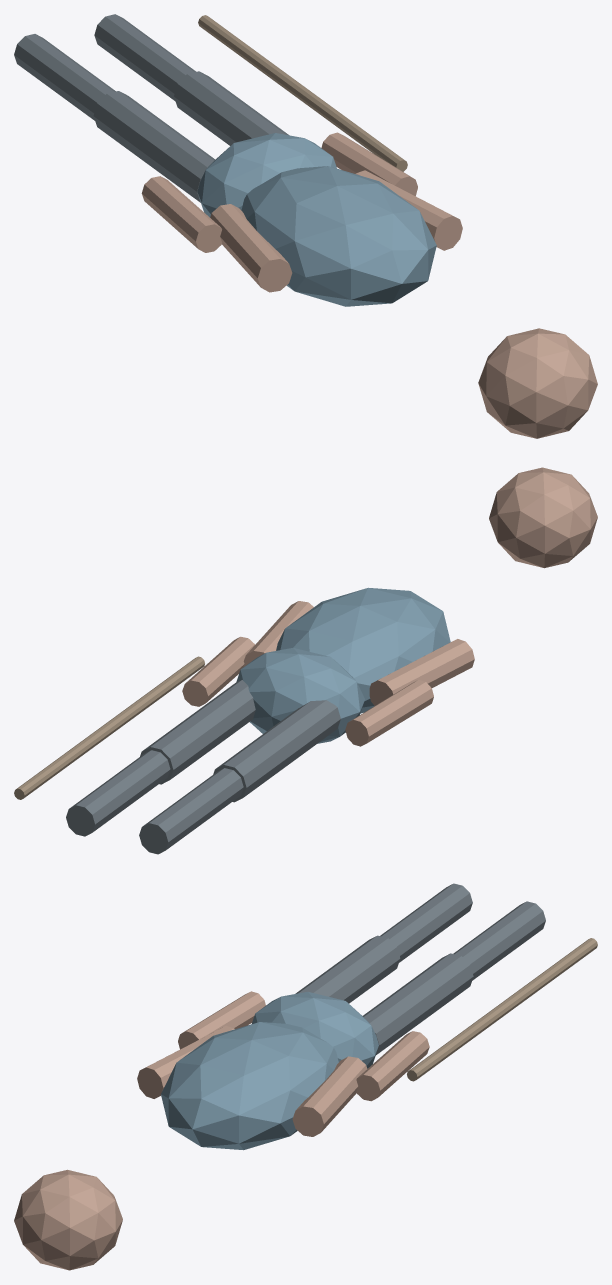
Rendered from older-low.glb.
3 renders of one model, top to bottom at view 1: azimuth 30°, elevation 25°; view 2: azimuth 150°, elevation 25°; view 3: azimuth 330°, elevation 25°, orthographic. The views are drawn at different scales.
Visible parts, largest first — view 1: torso, head, pelvis, left_thigh, right_thigh, right_lower_leg, left_lower_leg, cane, left_upper_arm, left_forearm, right_forearm, right_upper_arm; view 2: torso, head, pelvis, left_thigh, right_thigh, left_lower_leg, right_lower_leg, cane, left_upper_arm, left_forearm, right_forearm, right_upper_arm; view 3: torso, head, pelvis, right_thigh, left_thigh, left_lower_leg, right_lower_leg, cane, right_upper_arm, right_forearm, left_forearm, left_upper_arm.
Boxes of the visible parts, box(x1,y1,x2,y2) form: torso: box(241, 166, 436, 306); head: box(478, 328, 597, 438); pelvis: box(197, 133, 336, 217); left_thigh: box(93, 91, 215, 202); right_thigh: box(174, 71, 288, 145); right_lower_leg: box(94, 14, 196, 101); left_lower_leg: box(14, 34, 115, 120); cane: box(198, 15, 407, 171); left_upper_arm: box(210, 204, 292, 292); left_forearm: box(141, 176, 221, 252); right_forearm: box(321, 132, 417, 195); right_upper_arm: box(356, 170, 462, 250); torso: box(276, 587, 450, 713); head: box(489, 467, 597, 568); pelvis: box(236, 648, 364, 743); left_thigh: box(213, 700, 340, 802); right_thigh: box(140, 679, 255, 784); left_lower_leg: box(139, 768, 243, 854); right_lower_leg: box(66, 750, 170, 836); cane: box(14, 656, 204, 799); left_upper_arm: box(369, 639, 474, 705); left_forearm: box(345, 680, 433, 746); right_forearm: box(182, 636, 254, 706); right_upper_arm: box(243, 601, 313, 666); torso: box(161, 1022, 338, 1150); head: box(14, 1169, 122, 1270); pelvis: box(252, 991, 378, 1068); right_thigh: box(363, 953, 473, 1054); left_thigh: box(295, 935, 400, 1003); left_lower_leg: box(380, 883, 472, 962); right_lower_leg: box(453, 901, 545, 980); cane: box(407, 938, 597, 1081); right_upper_arm: box(292, 1056, 367, 1136); right_forearm: box(356, 1031, 429, 1101); left_forearm: box(178, 991, 265, 1049); left_upper_arm: box(137, 1025, 234, 1098).
Size of the model in its own units: 1.42 by 0.576 by 5.15.
